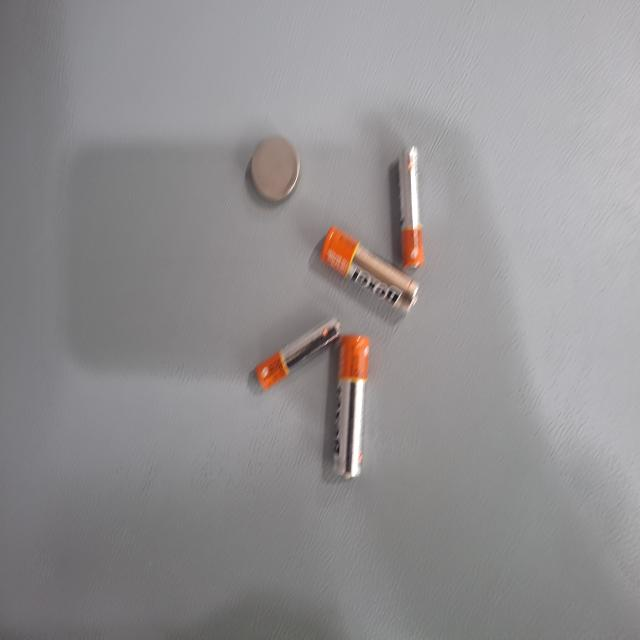AA: (169, 294, 237, 427), (252, 362, 359, 408)
AAA: (238, 399, 291, 513), (109, 288, 199, 322)
COIN: (100, 452, 155, 523)
